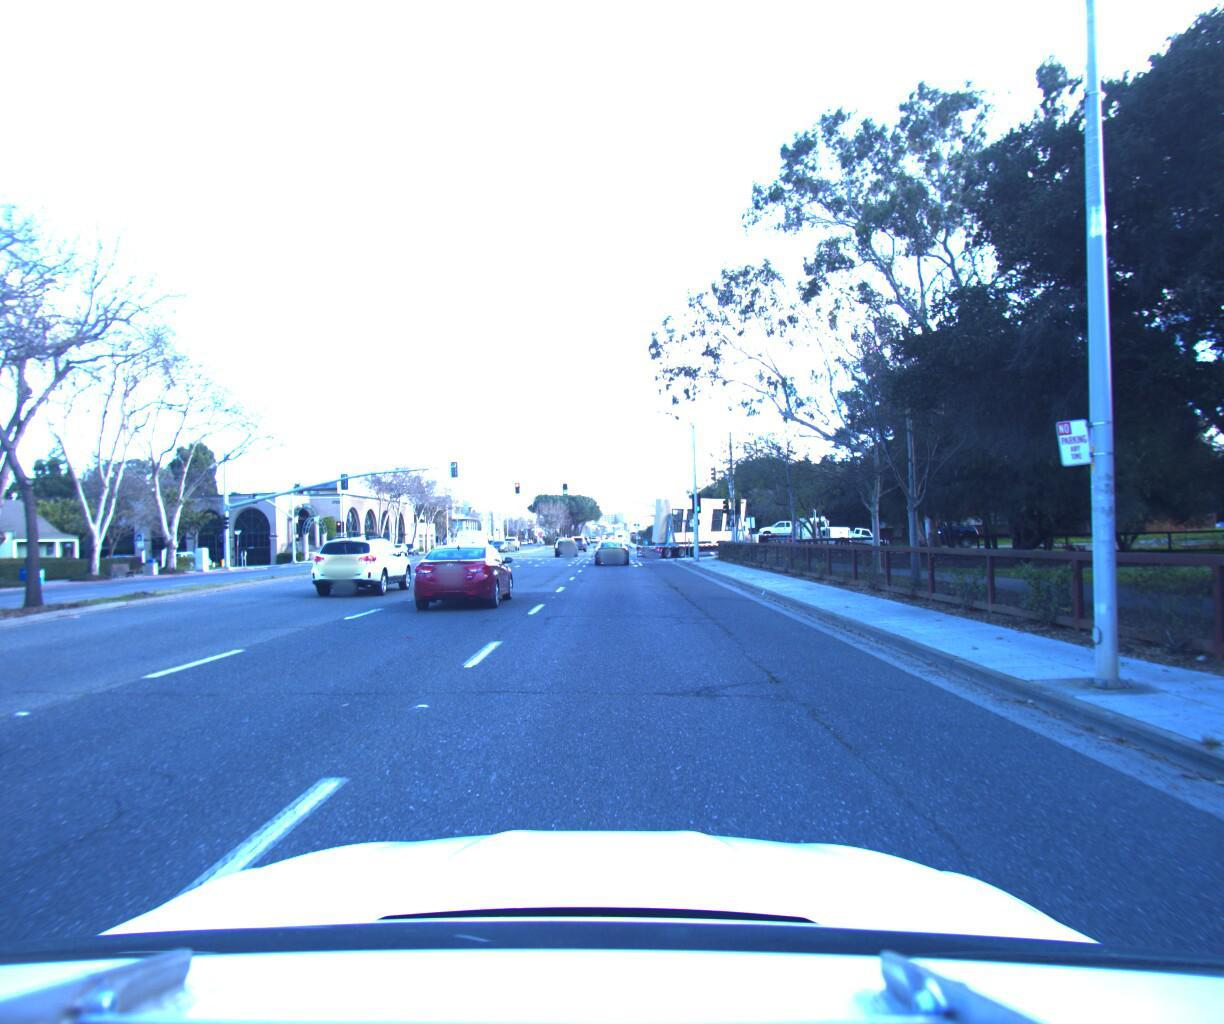car: (407, 532, 517, 610), (311, 524, 419, 594), (827, 516, 886, 541), (453, 521, 492, 553), (754, 509, 815, 529), (591, 530, 625, 558), (553, 528, 579, 549), (568, 528, 586, 544)
other_vehicle: (632, 484, 801, 549)
truck: (706, 508, 827, 542), (788, 504, 865, 541)
